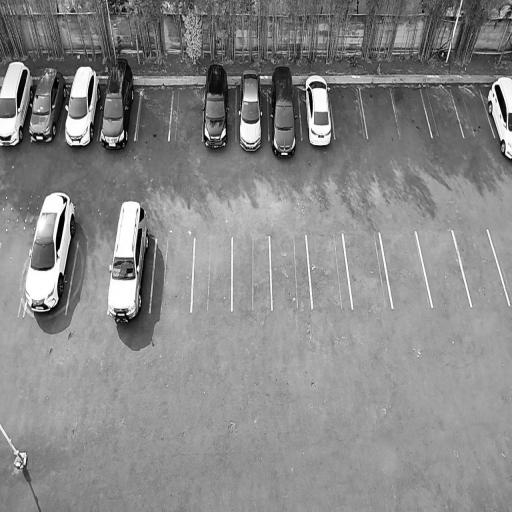Car: (20, 186, 81, 320), (104, 196, 153, 327), (97, 54, 138, 154), (61, 62, 104, 151), (26, 62, 70, 146), (0, 57, 38, 151), (269, 63, 299, 158), (202, 60, 230, 151), (302, 71, 334, 149), (484, 76, 512, 161), (237, 66, 264, 152)
Space Available: (452, 230, 510, 305), (416, 230, 471, 306), (380, 233, 432, 309), (343, 234, 392, 308), (66, 239, 112, 315), (306, 234, 352, 310), (150, 238, 194, 312), (270, 236, 312, 310), (233, 236, 272, 311), (192, 238, 231, 311), (450, 87, 495, 137), (0, 241, 30, 316), (420, 87, 464, 137), (360, 87, 400, 139), (391, 88, 432, 138), (329, 87, 368, 139), (135, 88, 173, 140), (169, 87, 202, 140)
